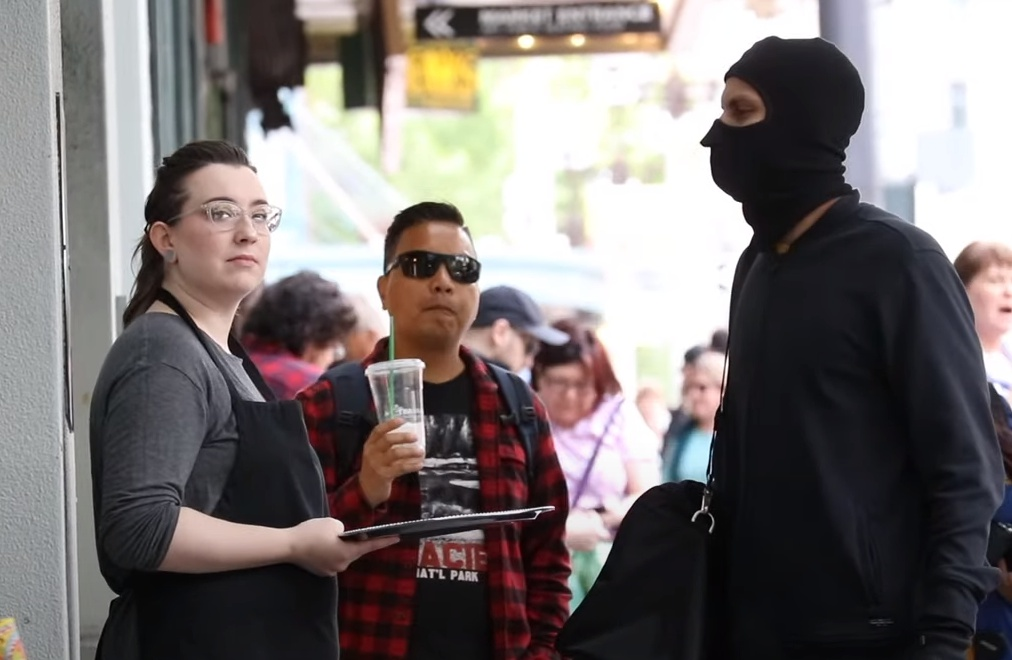mouth: (222, 252, 262, 267), (422, 303, 457, 316)
nose: (232, 232, 260, 245), (431, 280, 455, 293)
